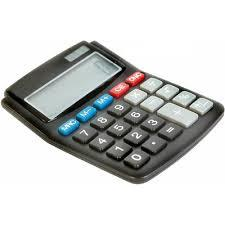Calculator: (0, 32, 225, 194)
